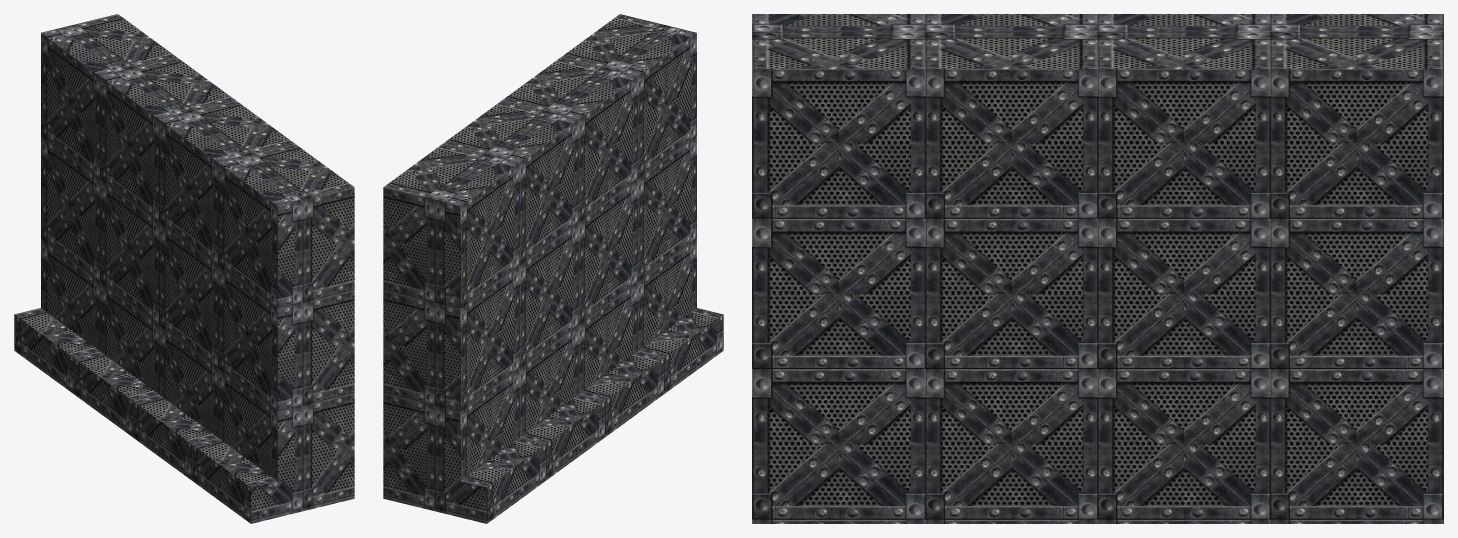
File: Meta_Box.FBX
3 renders of one model, left to right at view 1: azimuth 30°, elevation 25°; view 2: azimuth 150°, elevation 25°; view 3: azimuth 270°, elevation 25°, orthographic. The views are drawn at different scales.
Visible parts, largest first — view 1: Box001; view 2: Box001; view 3: Box001.
Part boxes in pixels (x1,y1,x2,y2): Box001: [14, 14, 354, 523]; Box001: [383, 14, 723, 523]; Box001: [752, 14, 1443, 523].
Bounding box in the file's own units: 0.2526 × 0.726 × 1.
Materials: 1 (1 with a texture image).
